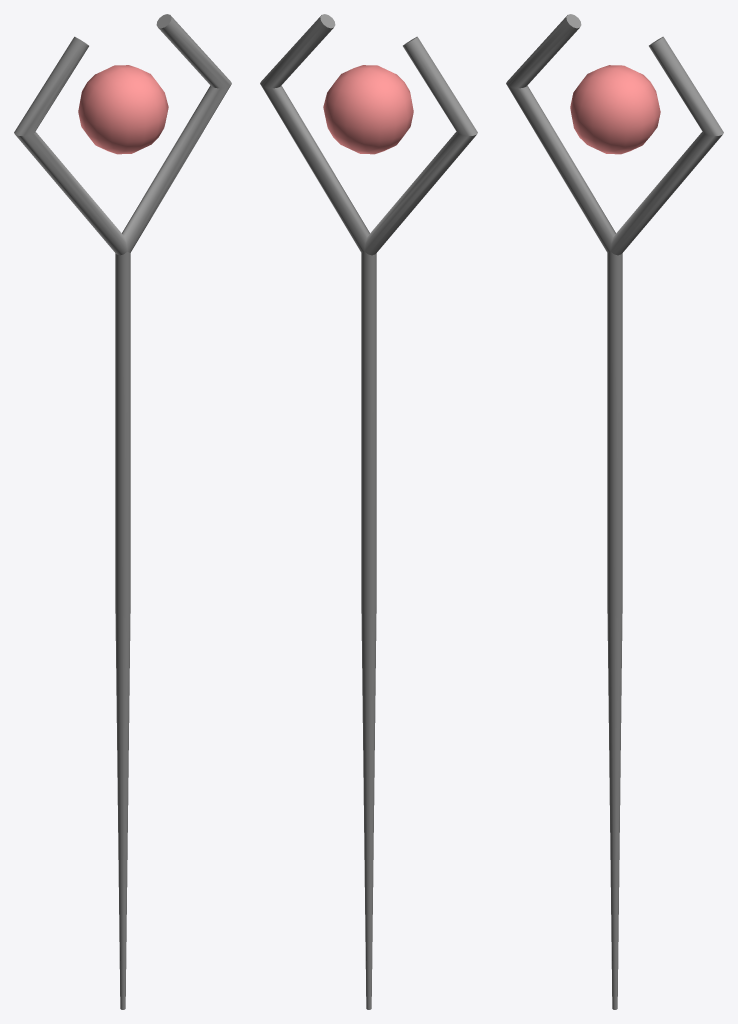
The model's file is Staff_Mesh.FBX.
3 renders of one model, left to right at view 1: azimuth 30°, elevation 25°; view 2: azimuth 150°, elevation 25°; view 3: azimuth 330°, elevation 25°, orthographic.
Parts seen in each view (by area): view 1: Cylinder002; view 2: Cylinder002; view 3: Cylinder002.
Part boxes in pixels (x1,y1,x2,y2): Cylinder002: (14, 14, 231, 1009); Cylinder002: (260, 14, 477, 1009); Cylinder002: (506, 14, 723, 1009).
Size of the model in its own units: 48.95 by 213 by 17.74.
